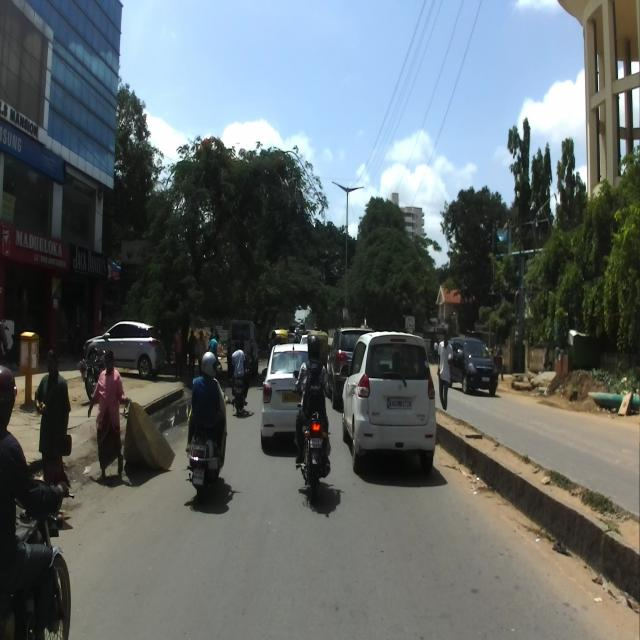car: (339, 331, 435, 477), (82, 318, 164, 381)
motorcycle: (293, 368, 333, 498), (79, 346, 109, 404)
scooter: (183, 371, 234, 502)
